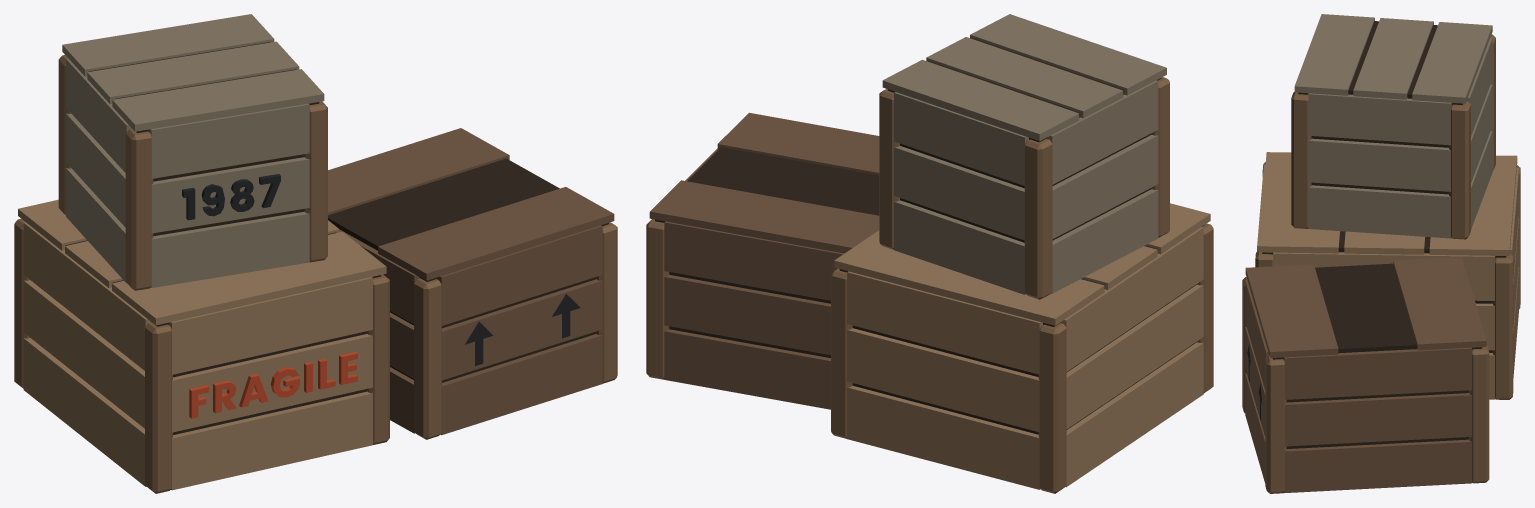
Rendered from Basement_WoodenCrates.fbx.
The picture shows the model from 3 angles, left to right: view 1: azimuth 30°, elevation 25°; view 2: azimuth 150°, elevation 25°; view 3: azimuth 270°, elevation 25°; orthographic projection. The views are drawn at different scales.
Visible parts, largest first — view 1: PlanksPale, PlanksGrey, PlanksDark, Battens, Core, StencilRed, StencilBlack; view 2: PlanksPale, PlanksGrey, PlanksDark, Battens, Core; view 3: PlanksDark, PlanksGrey, PlanksPale, Battens, Core.
Part boxes in pixels (x1,y1,x2,y2): PlanksPale: (18, 199, 386, 490); PlanksGrey: (62, 14, 324, 287); PlanksDark: (328, 128, 614, 435); Battens: (14, 55, 617, 493); Core: (65, 42, 608, 434); StencilRed: (189, 351, 357, 418); StencilBlack: (182, 174, 580, 365); PlanksPale: (834, 203, 1210, 489); PlanksGrey: (882, 14, 1166, 294); PlanksDark: (649, 112, 879, 409); Battens: (646, 77, 1213, 493); Core: (655, 38, 1204, 434); PlanksDark: (1245, 258, 1486, 492); PlanksGrey: (1294, 14, 1492, 238); PlanksPale: (1257, 152, 1518, 399); Battens: (1242, 34, 1520, 493); Core: (1262, 21, 1506, 492).
Size of the model in its own units: 415 by 292 by 251.
